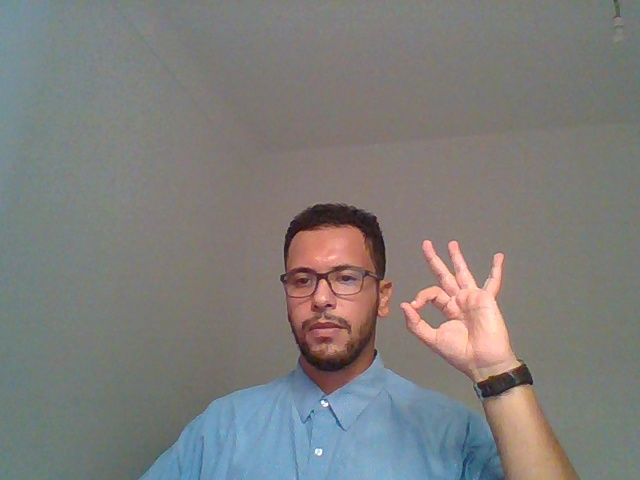okay: (384, 225, 548, 418)
